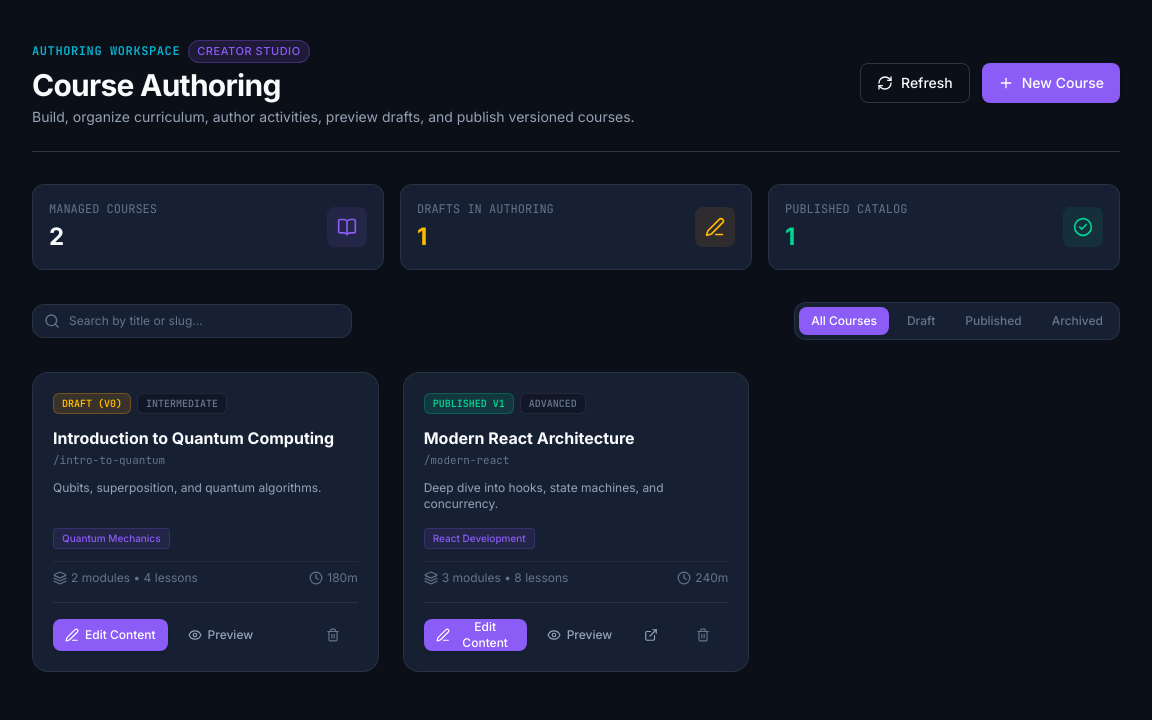
Test: Phase 7 Creator Studio & Course Authoring › Creator Studio Filtering › filters courses by title and slug using the search bar
expect the heading "Introduction to Quantum Computing" is shown: met, box [53,426,358,450]
Type "quantum" into the field with placeholder "Search by title or slug..." at [192, 320], box [32,304,352,338]
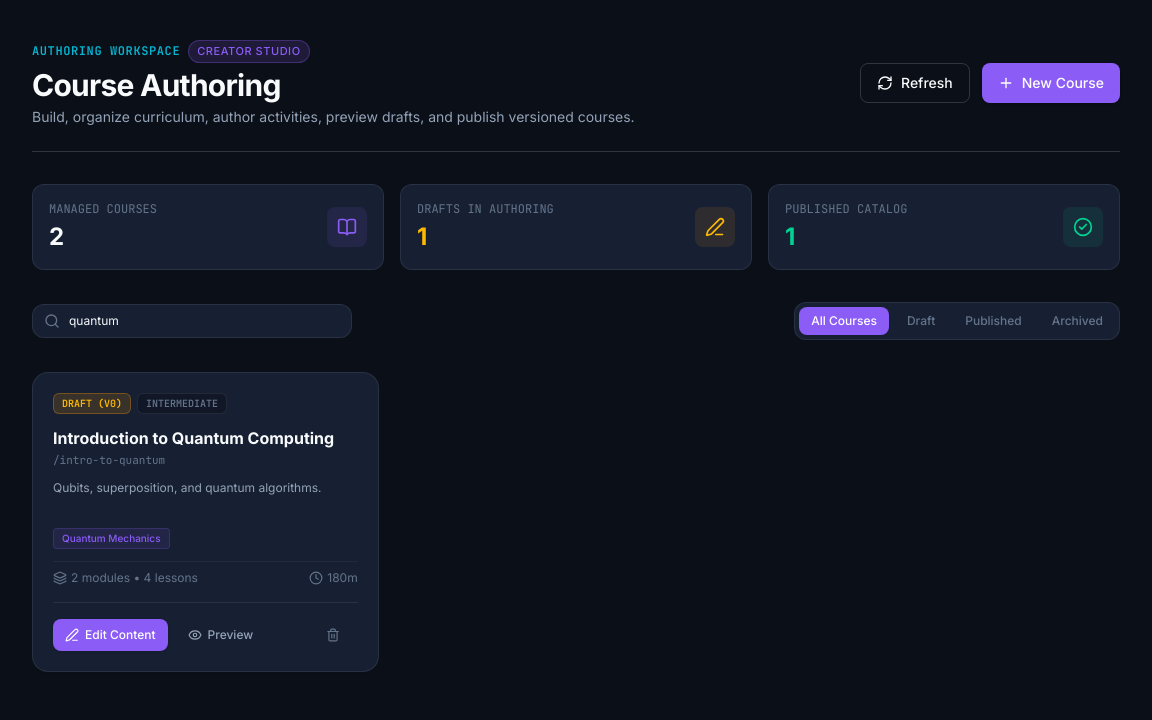
expect the heading "Introduction to Quantum Computing" is shown: met, box [53,426,358,450]
expect the heading "Modern React Architecture" is gone: met
